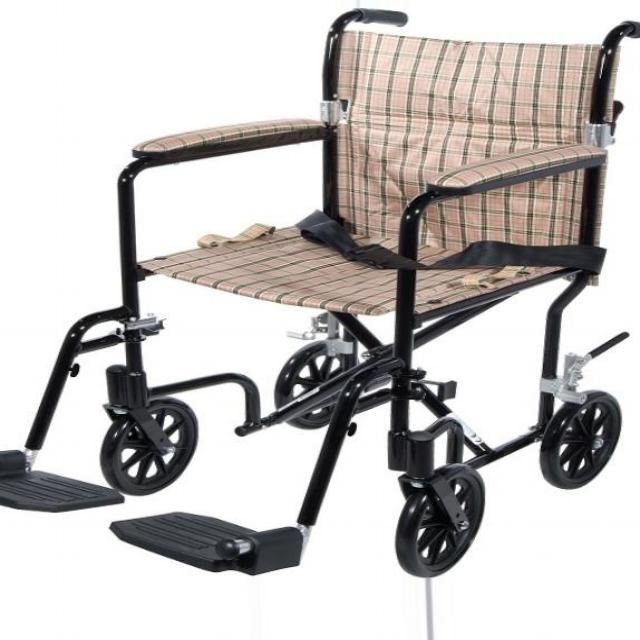wheelchair: (0, 4, 640, 592)
